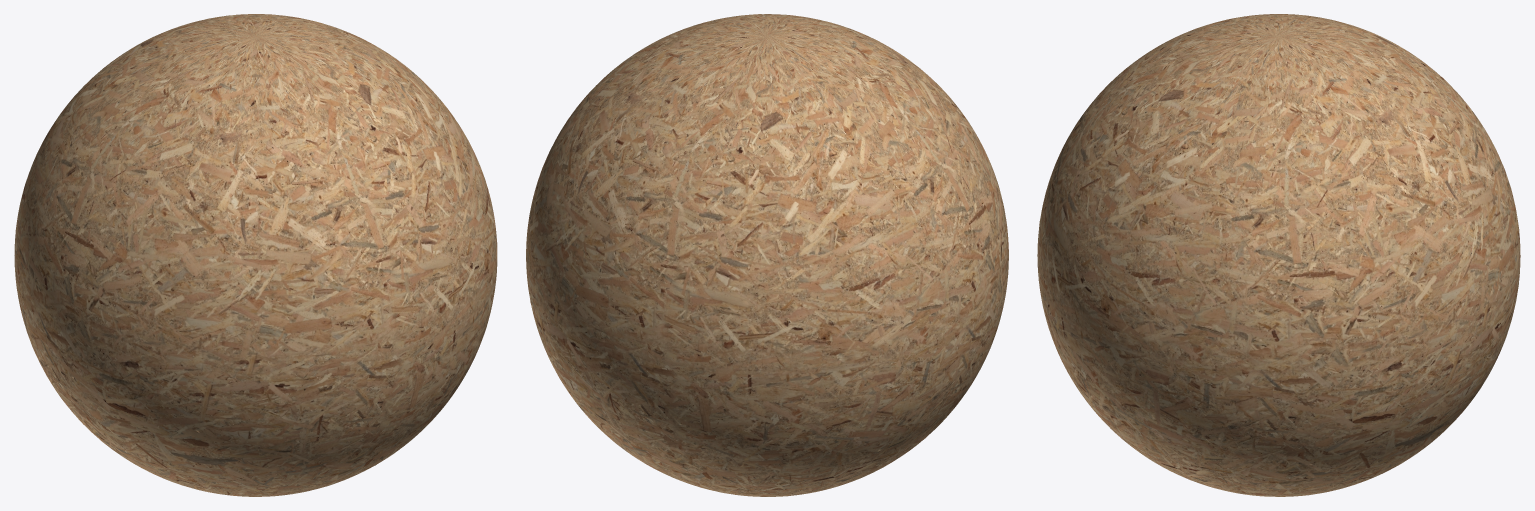
The model's file is oriented_strand_board_1k.gltf.
The picture shows the model from 3 angles, left to right: view 1: azimuth 30°, elevation 25°; view 2: azimuth 150°, elevation 25°; view 3: azimuth 270°, elevation 25°; orthographic projection.
Visible parts, largest first — view 1: sphere_gltf; view 2: sphere_gltf; view 3: sphere_gltf.
Boxes of the visible parts, x1,y1,x2,y2 form: sphere_gltf: (14, 14, 497, 496); sphere_gltf: (526, 14, 1008, 496); sphere_gltf: (1037, 14, 1520, 496).
Bounding box in the file's own units: 2.52 × 2.52 × 2.52.
1 material, 1 textured.
